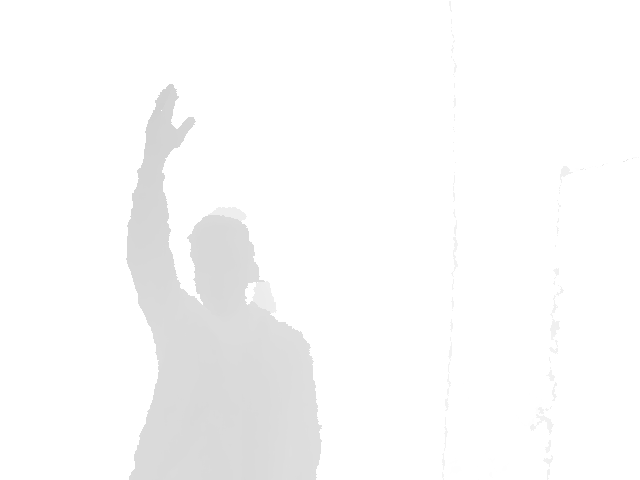hand: (145, 83, 195, 155)
head: (186, 215, 261, 308)
person: (123, 83, 324, 480)
